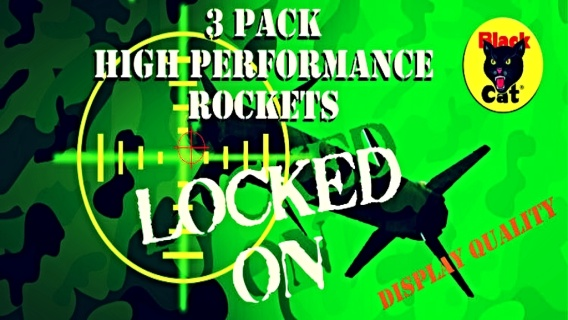Cat: (480, 36, 525, 93)
